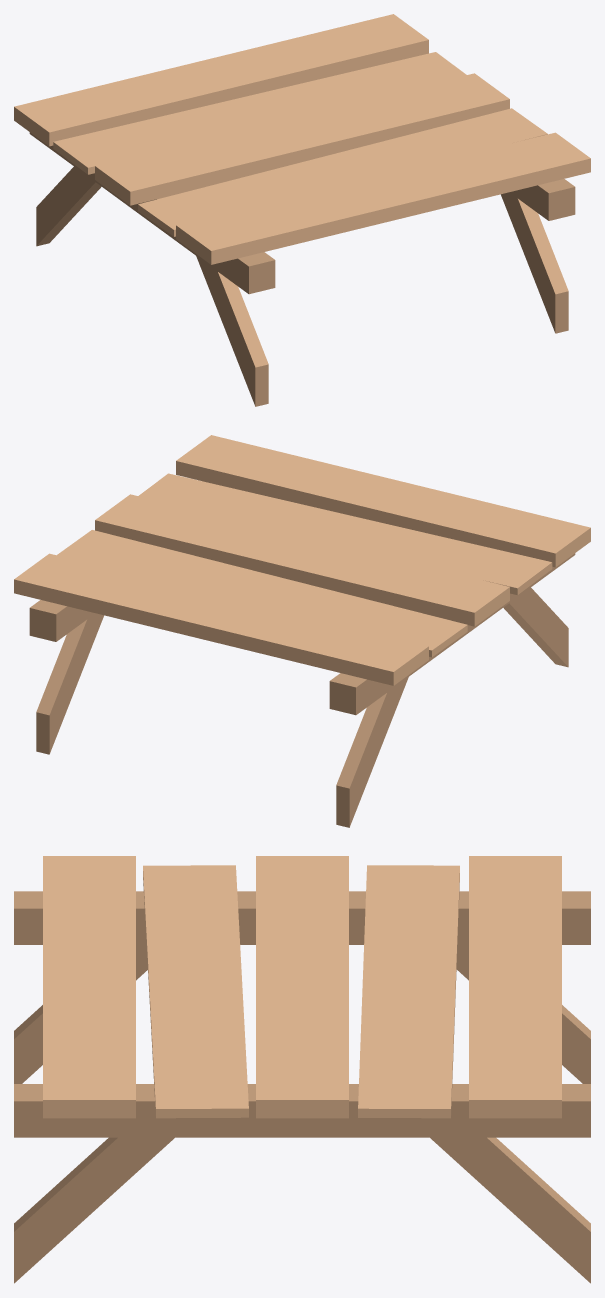
3 renders of one model, top to bottom at view 1: azimuth 30°, elevation 25°; view 2: azimuth 150°, elevation 25°; view 3: azimuth 270°, elevation 25°, orthographic. The views are drawn at different scales.
Parts seen in each view (by area): view 1: bridge; view 2: bridge; view 3: bridge.
Boxes of the visible parts, x1=… form: bridge: x1=14, y1=14, x2=590, y2=406; bridge: x1=14, y1=435, x2=590, y2=827; bridge: x1=14, y1=856, x2=590, y2=1283.
Bounding box in the file's own units: 1 × 0.3925 × 1.
